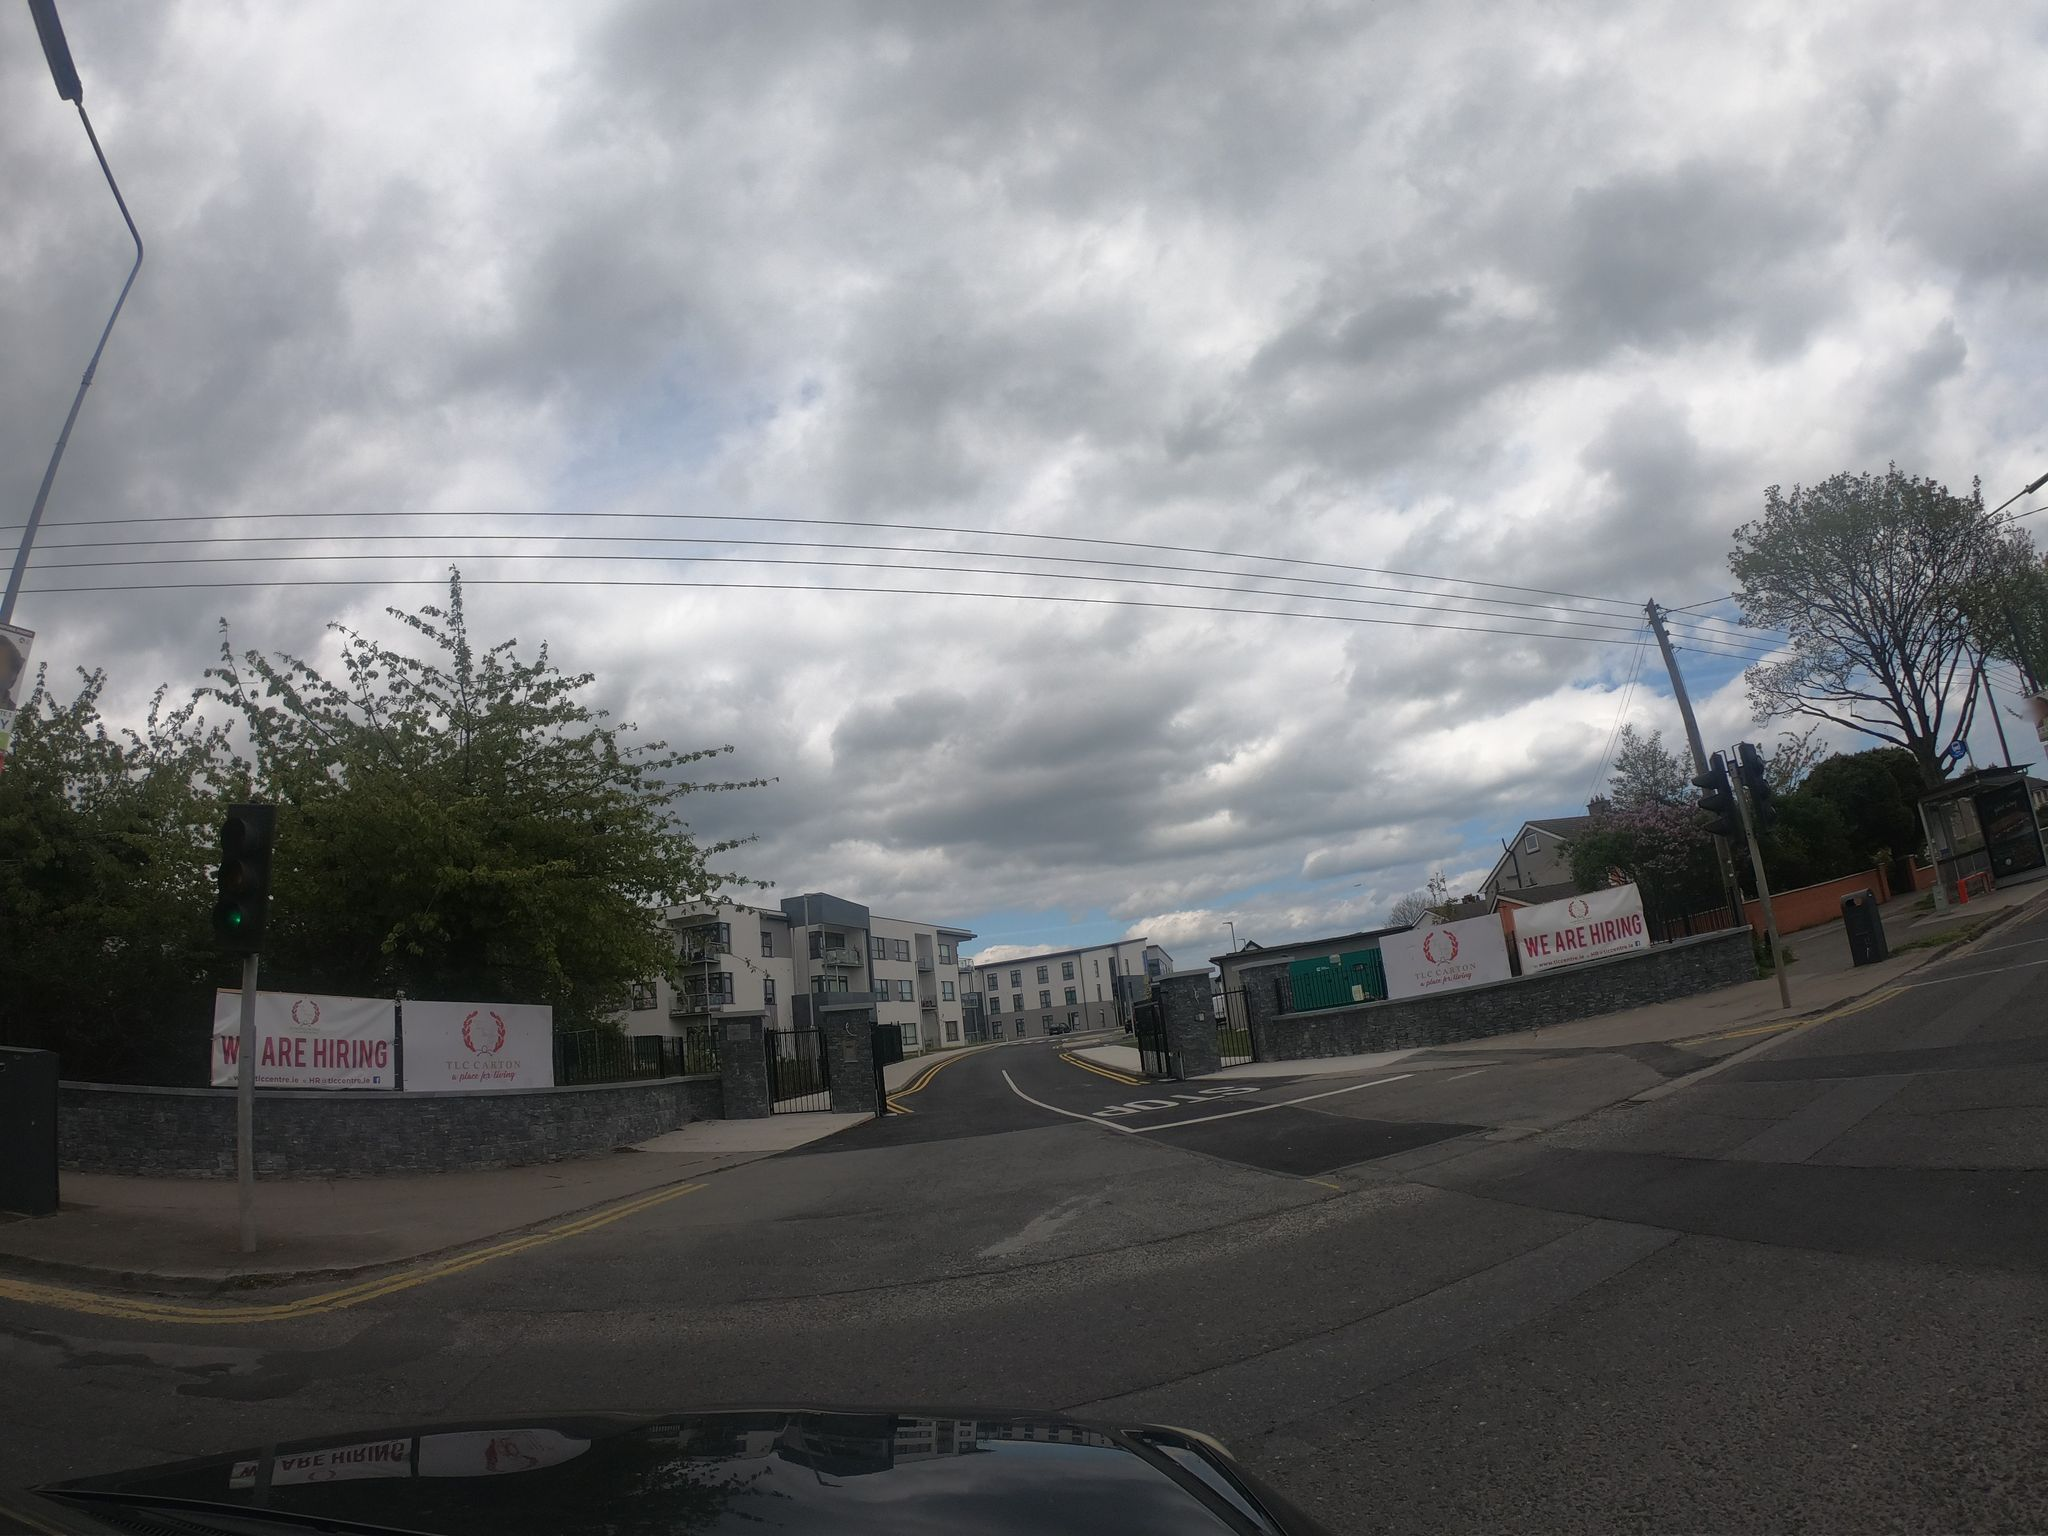vinyl banner: (198, 965, 402, 1108), (1503, 886, 1684, 981)
